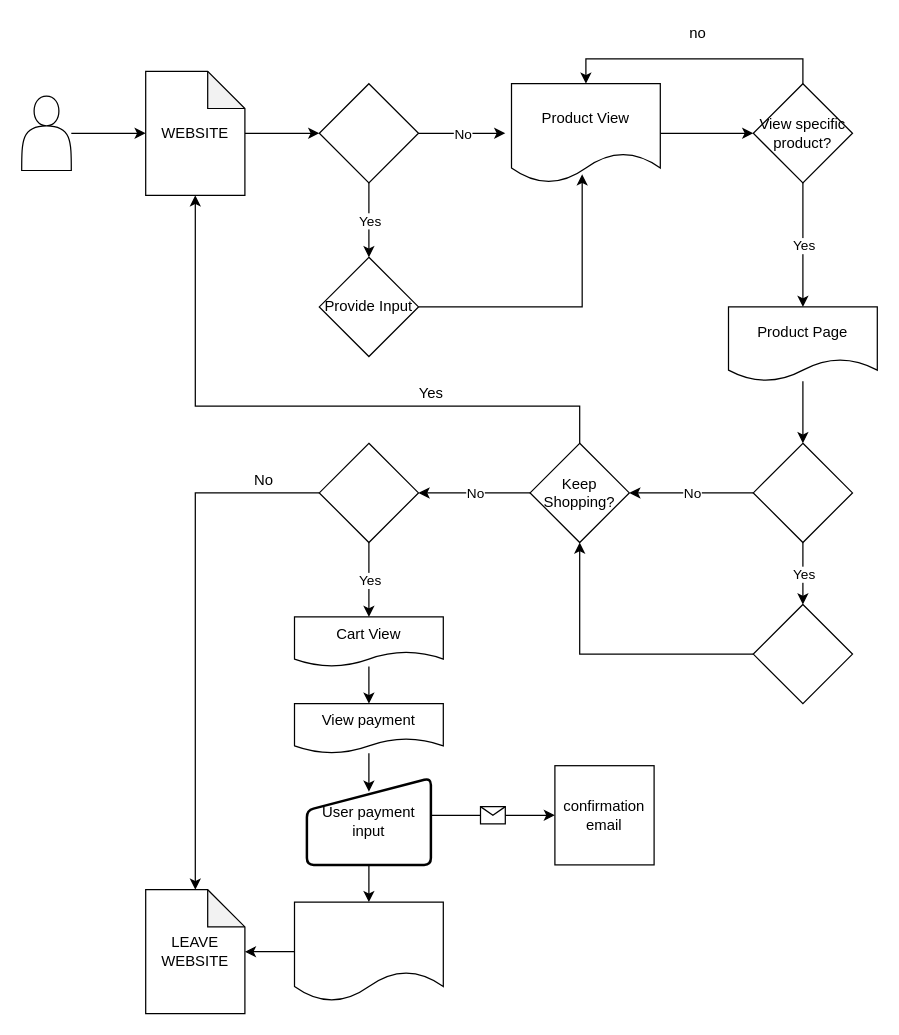
This 899x1035 diagram has some shape labels left out. Each missing label, with the box of its shape:
Add to cart?: (752, 442, 852, 542)
Checkout?: (318, 442, 418, 542)
Confirm?: (752, 603, 852, 704)
Order confirmation screen: (293, 901, 443, 1001)
Search?: (318, 82, 418, 183)
